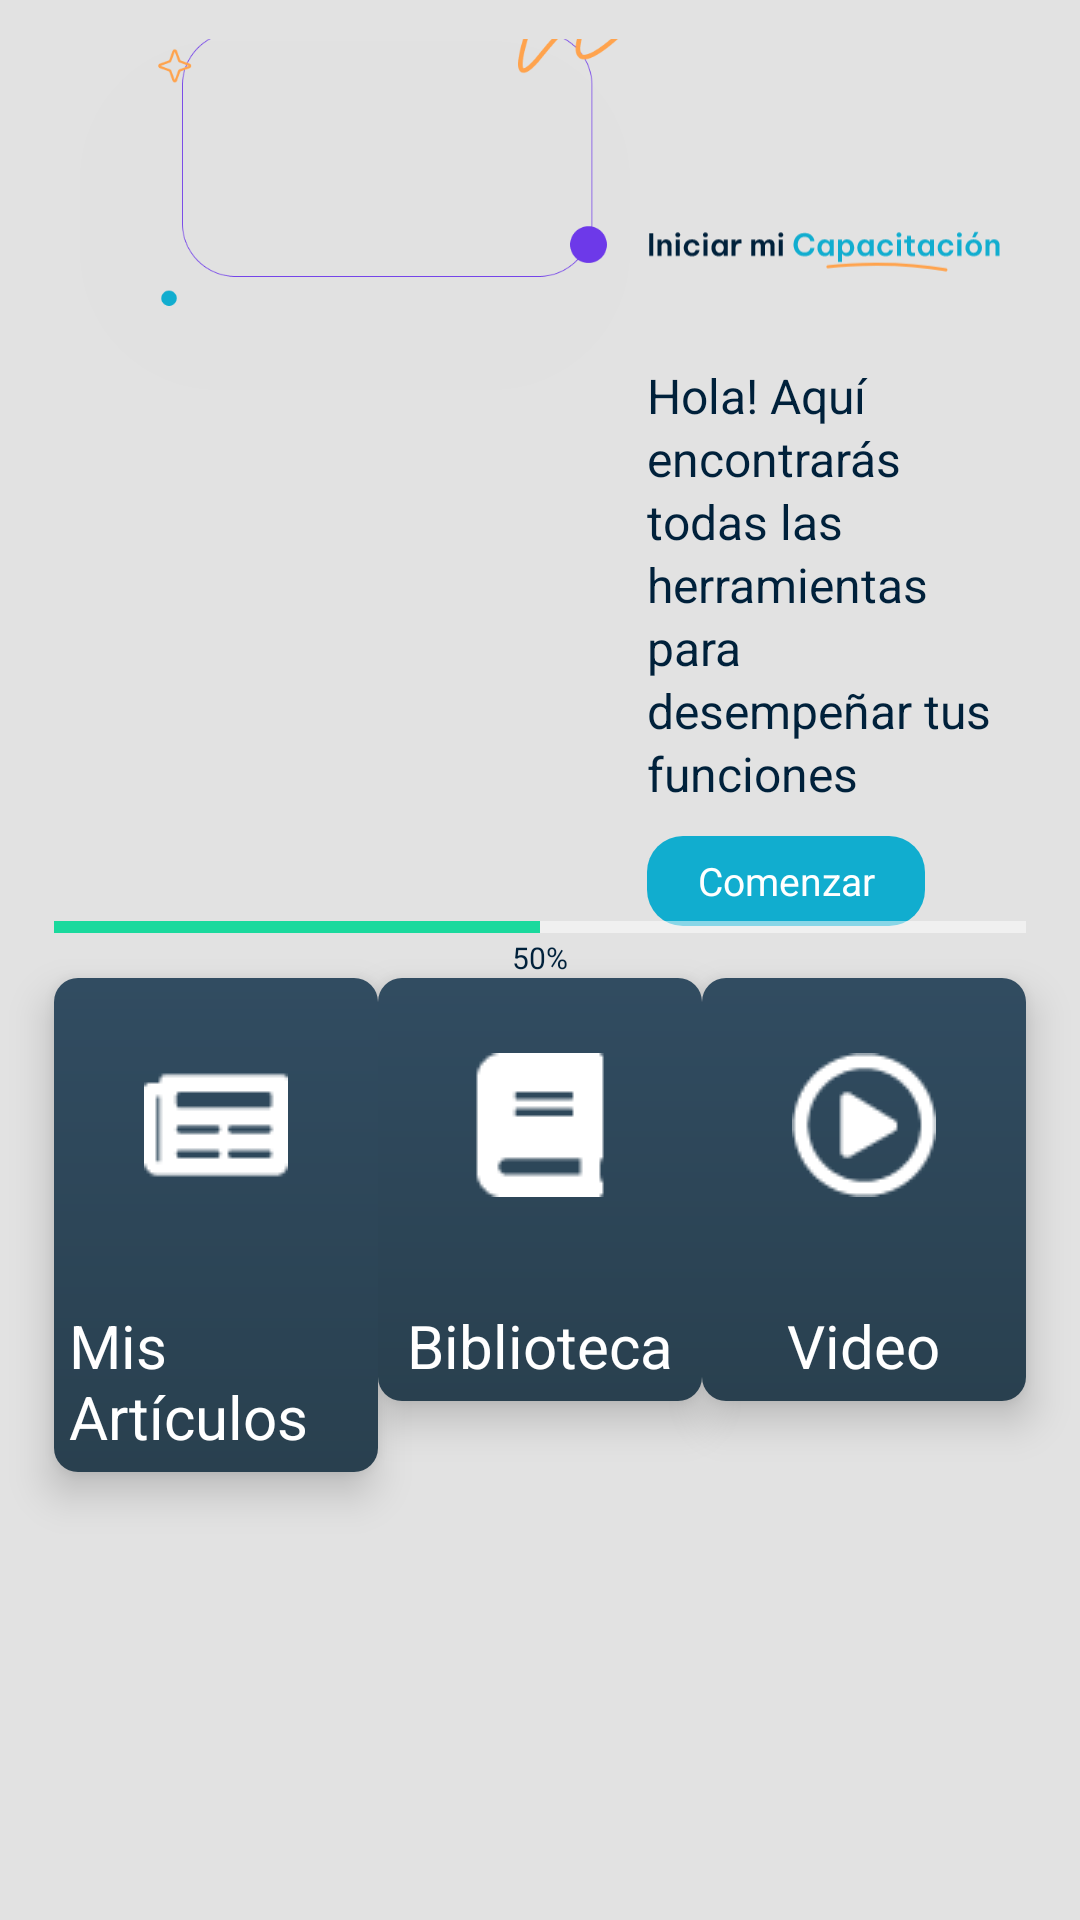

Icon click points for this 1080px x 1920px phone screenshot, format point (x, y):
articulos: point (216, 1125)
bliblioteca: point (540, 1125)
